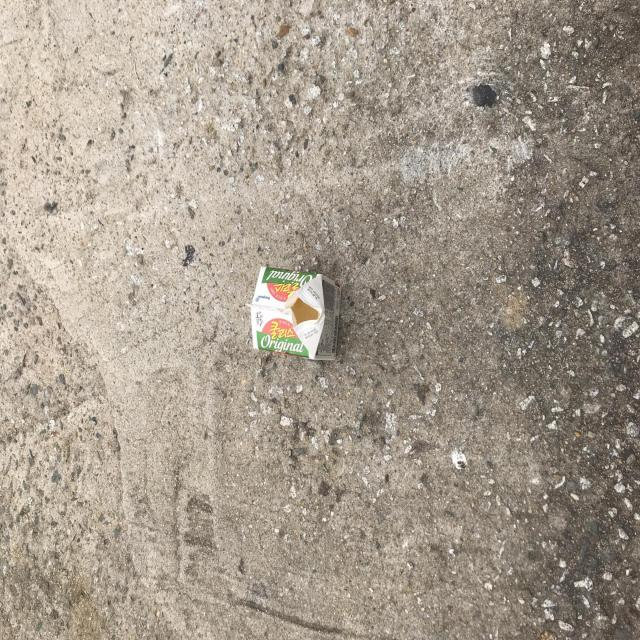paperpack: (250, 268, 341, 359)
